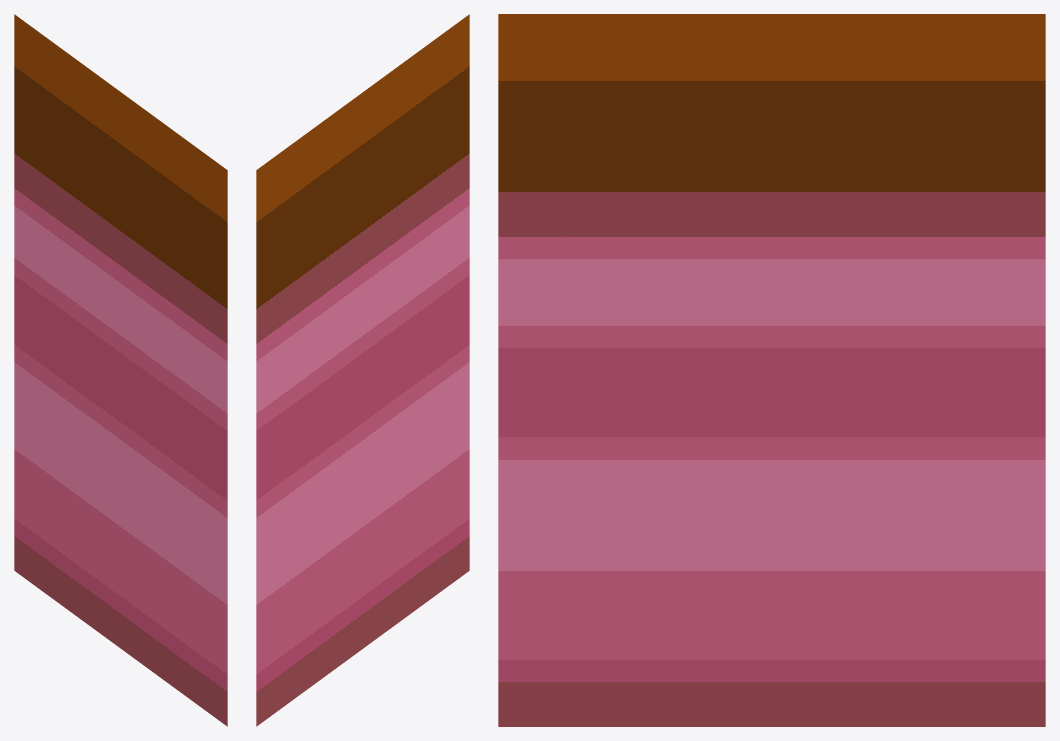
The picture shows the model from 3 angles, left to right: view 1: azimuth 30°, elevation 25°; view 2: azimuth 150°, elevation 25°; view 3: azimuth 270°, elevation 25°; orthographic projection. The views are drawn at different scales.
Bounding box in the file's own units: 0 × 1.44 × 1.
1 material, 1 textured.
